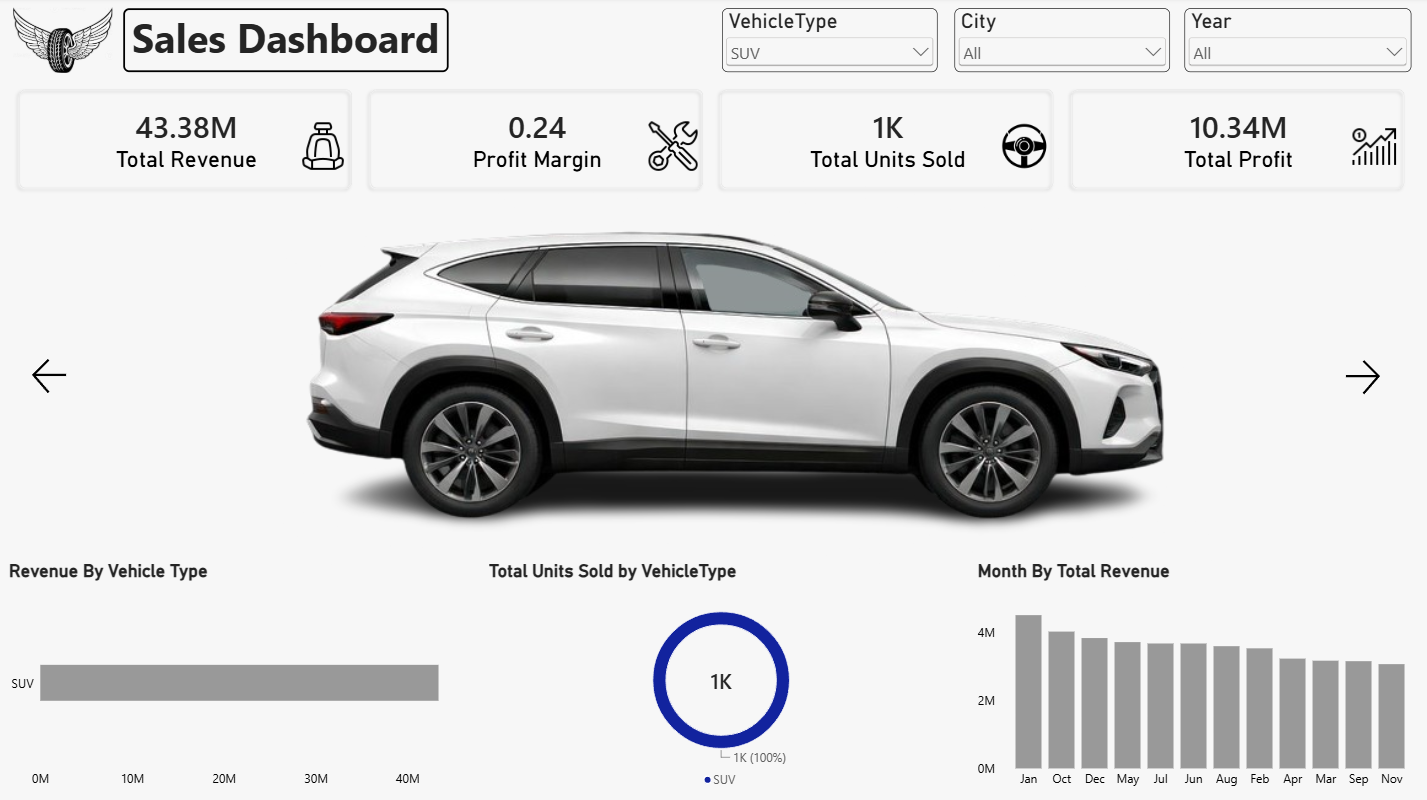

Layout of this report page (visuals, bound fields, positions):
{"tool":"powerbi","page":{"name":"SUV","canvas":[1920,1080],"ordinal":1},"visuals":[{"type":"image","box":[21.4,0,132.6,115.5],"z":0},{"type":"textbox","box":[168.9,15,436.2,85.5],"z":1000},{"type":"cardVisual","fields":{"Data":["vehicle_sales_dashboard_dataset.Total Revenue","vehicle_sales_dashboard_dataset.Profit Margin","vehicle_sales_dashboard_dataset.Total Units Sold","vehicle_sales_dashboard_dataset.Total Profit"]},"box":[21.4,115.5,1873,149.7],"z":2000},{"type":"image","box":[404.1,164.6,66.3,70.6],"z":3000},{"type":"barChart","title":"Revenue By Vehicle Type","fields":{"Category":["vehicle_sales_dashboard_dataset.VehicleType"],"Y":["Sum(vehicle_sales_dashboard_dataset.Revenue)"]},"box":[0,739.8,643.6,340],"z":4000},{"type":"donutChart","fields":{"Category":["vehicle_sales_dashboard_dataset.VehicleType"],"Y":["vehicle_sales_dashboard_dataset.Total Units Sold"]},"box":[643.6,739.8,654.3,340],"z":5000},{"type":"columnChart","title":"Month By Total Revenue","fields":{"Category":["vehicle_sales_dashboard_dataset.Month"],"Y":["vehicle_sales_dashboard_dataset.Total Revenue"]},"box":[1297.8,739.8,622.2,340],"z":6000},{"type":"slicer","fields":{"Values":["vehicle_sales_dashboard_dataset.Year"]},"box":[1590.7,15,303.6,85.5],"z":7000},{"type":"slicer","fields":{"Values":["vehicle_sales_dashboard_dataset.City"]},"box":[1282.9,15,288.6,85.5],"z":8000},{"type":"image","box":[195.5,242.9,1582.9,524.9],"z":9000},{"type":"actionButton","box":[1778.9,476.8,100.5,64.1],"z":10000},{"type":"actionButton","box":[20.6,477.5,100.9,61.7],"z":11000},{"type":"slicer","fields":{"Values":["vehicle_sales_dashboard_dataset.VehicleType"]},"box":[971.5,14.4,288.6,85.5],"z":12000}]}

Visuals, with their boxes in screenshot pixels (x1, y1, x2, y2), scaled from the page's 1920x1080 canvas onto the 1427x800 screenshot:
image: {"left": 16, "top": 0, "right": 114, "bottom": 86}
textbox: {"left": 126, "top": 11, "right": 450, "bottom": 74}
cardVisual - vehicle_sales_dashboard_dataset.Total Revenue x vehicle_sales_dashboard_dataset.Profit Margin: {"left": 16, "top": 86, "right": 1408, "bottom": 196}
image: {"left": 300, "top": 122, "right": 350, "bottom": 174}
"Revenue By Vehicle Type" barChart: {"left": 0, "top": 548, "right": 478, "bottom": 799}
donutChart - vehicle_sales_dashboard_dataset.VehicleType x vehicle_sales_dashboard_dataset.Total Units Sold: {"left": 478, "top": 548, "right": 965, "bottom": 799}
"Month By Total Revenue" columnChart: {"left": 965, "top": 548, "right": 1426, "bottom": 799}
slicer - vehicle_sales_dashboard_dataset.Year: {"left": 1182, "top": 11, "right": 1408, "bottom": 74}
slicer - vehicle_sales_dashboard_dataset.City: {"left": 953, "top": 11, "right": 1168, "bottom": 74}
image: {"left": 145, "top": 180, "right": 1322, "bottom": 569}
actionButton: {"left": 1322, "top": 353, "right": 1397, "bottom": 401}
actionButton: {"left": 15, "top": 354, "right": 90, "bottom": 399}
slicer - vehicle_sales_dashboard_dataset.VehicleType: {"left": 722, "top": 11, "right": 937, "bottom": 74}
